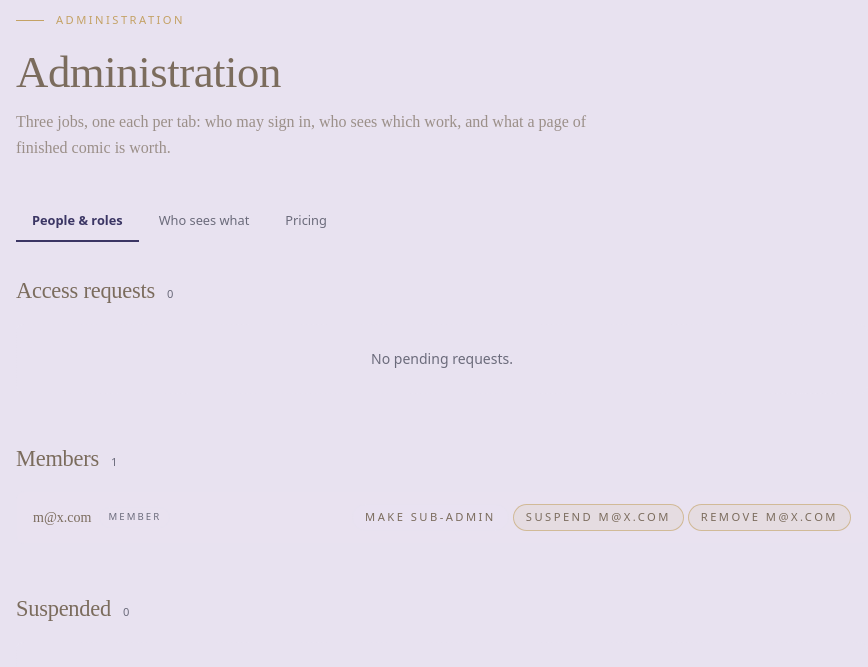
AdminPanel members › Cancel disarms the confirm without firing the mutation
The image size is (868, 667).
Click the button "Remove m@x.com" at (769, 518), box [688,504,851,531]
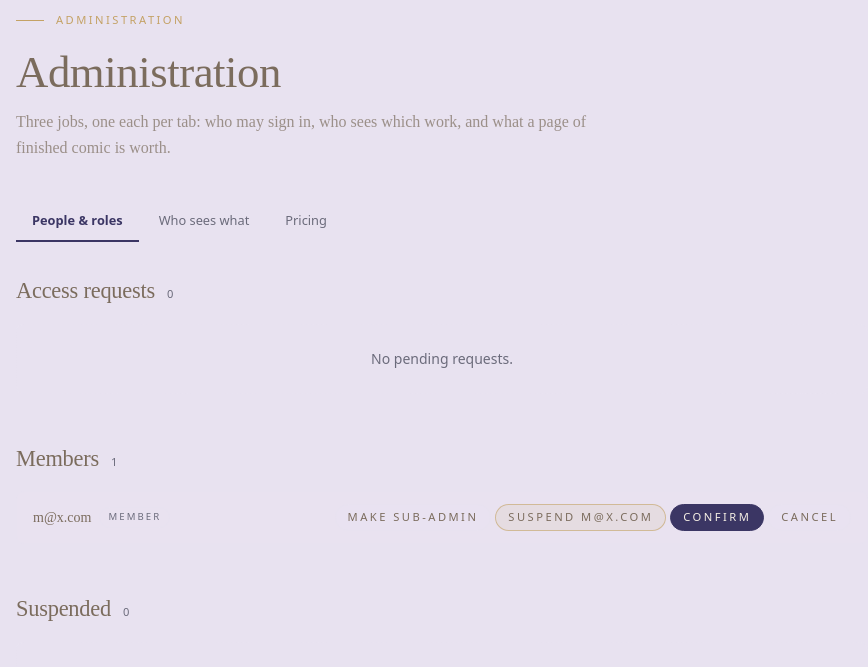
Click the button "Cancel" at (810, 518), box [768,504,851,531]
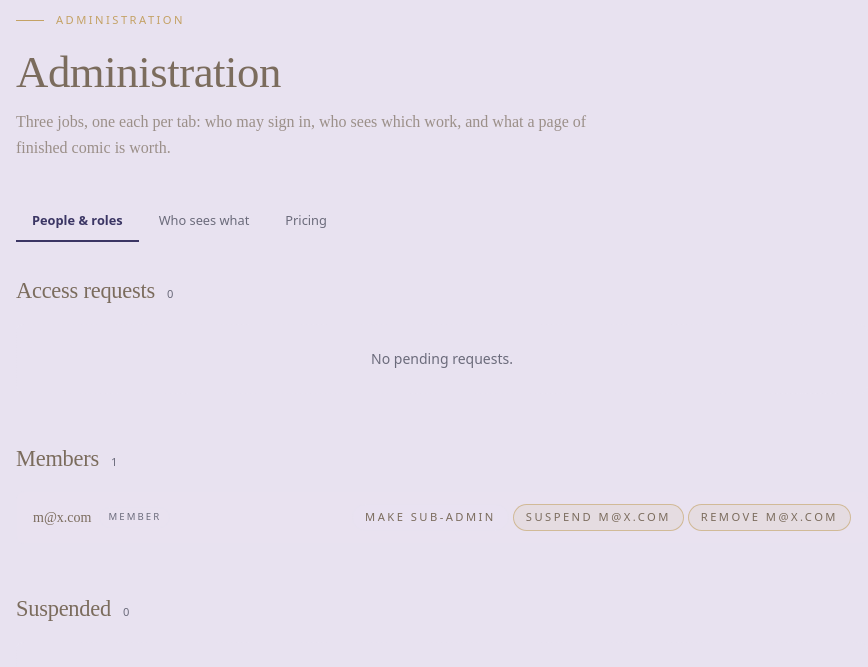
Result: the button "Remove m@x.com" is shown at [688,504,851,531]
